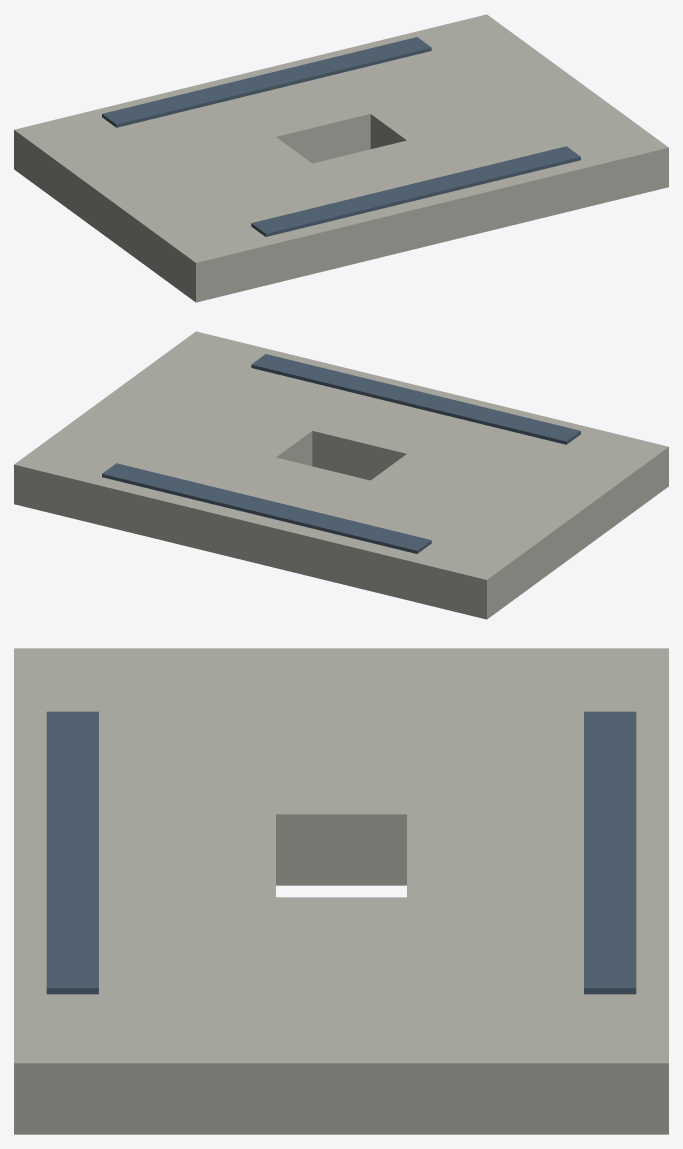
Rendered from transfer.glb.
3 views of the same model, one above another, from view 1: azimuth 30°, elevation 25°; view 2: azimuth 150°, elevation 25°; view 3: azimuth 270°, elevation 25° (orthographic). The views are drawn at different scales.
Visible parts, largest first — view 1: ConcretePanel, Rail_A, Rail_B; view 2: ConcretePanel, Rail_A, Rail_B; view 3: ConcretePanel, Rail_A, Rail_B.
Part boxes in pixels (box(x1,y1,x2,y2)): ConcretePanel: box(14, 14, 668, 302); Rail_A: box(251, 146, 580, 236); Rail_B: box(102, 37, 431, 127); ConcretePanel: box(14, 331, 668, 619); Rail_A: box(251, 354, 580, 444); Rail_B: box(102, 463, 431, 553); ConcretePanel: box(14, 648, 668, 1134); Rail_A: box(46, 711, 98, 994); Rail_B: box(584, 711, 636, 994).
Size of the model in its own units: 1.5 by 0.13 by 1.
